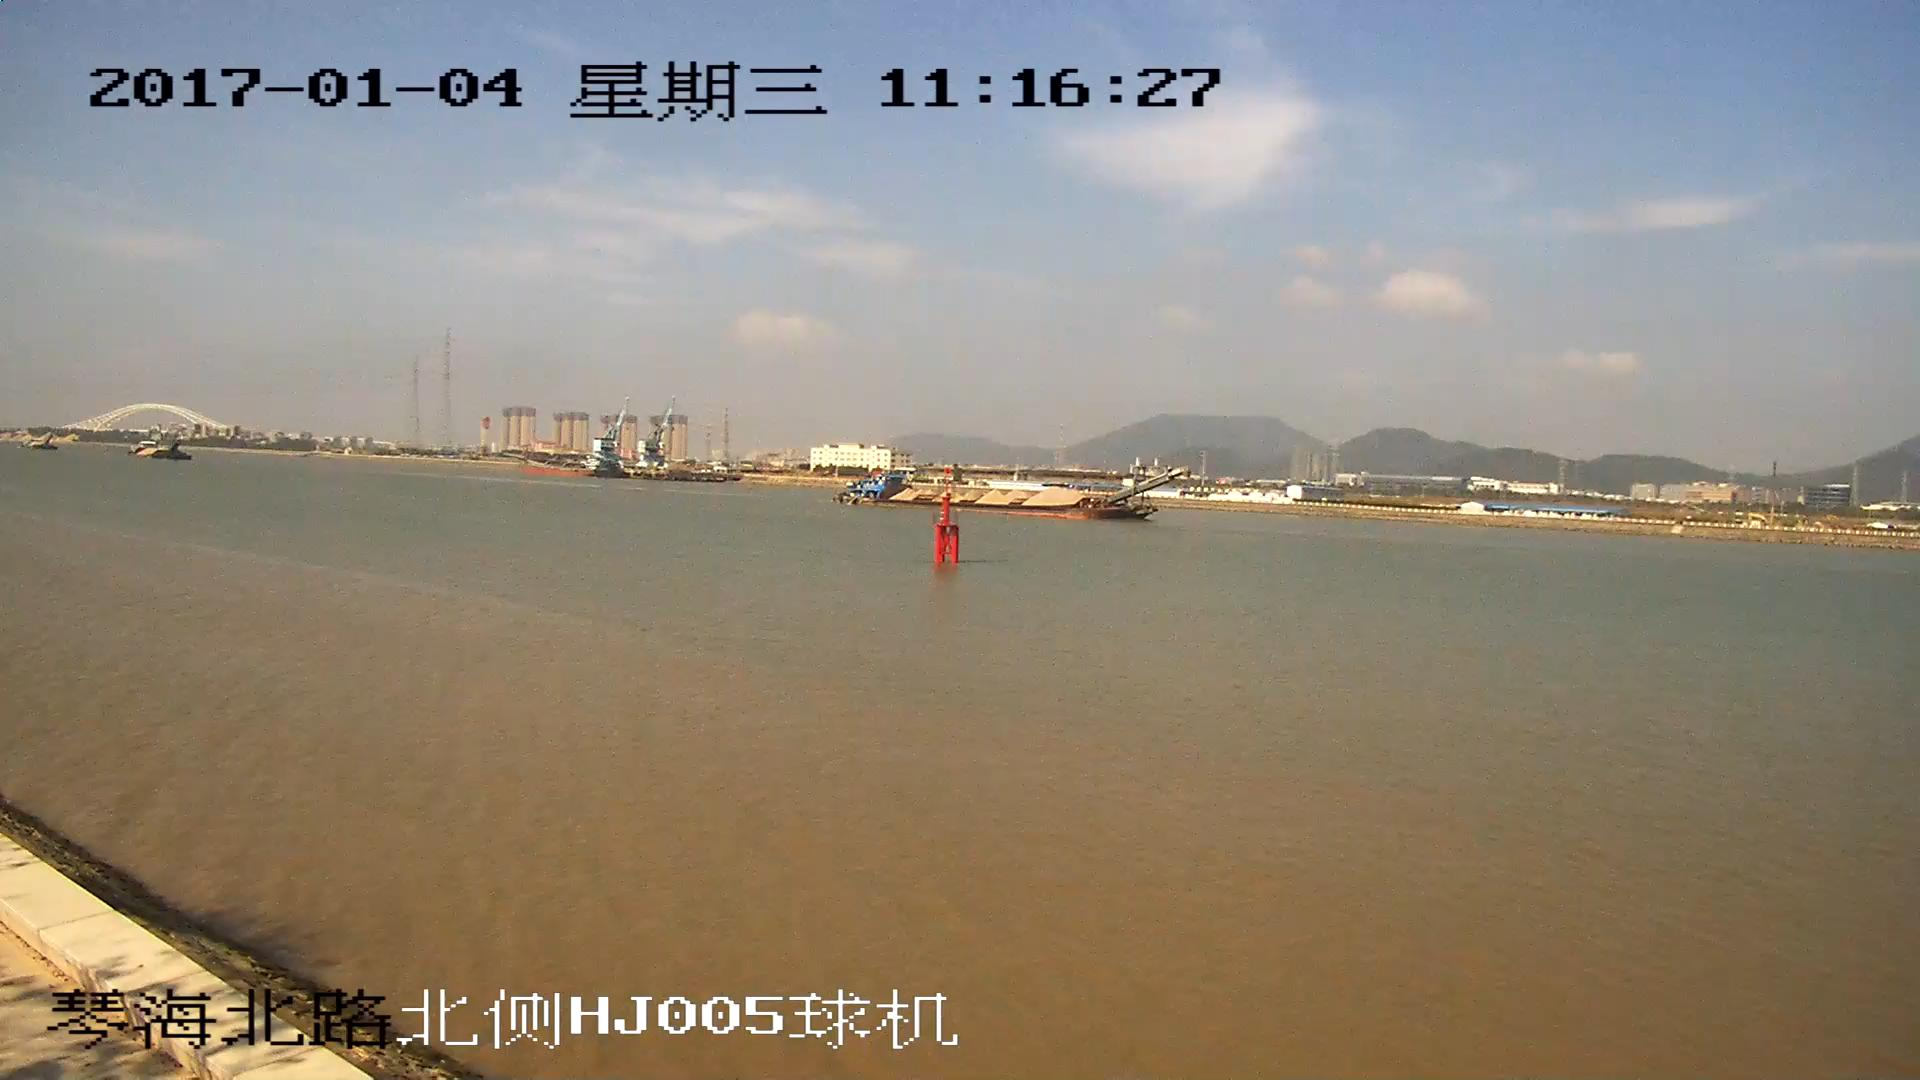ore carrier: (840, 471, 1182, 525)
